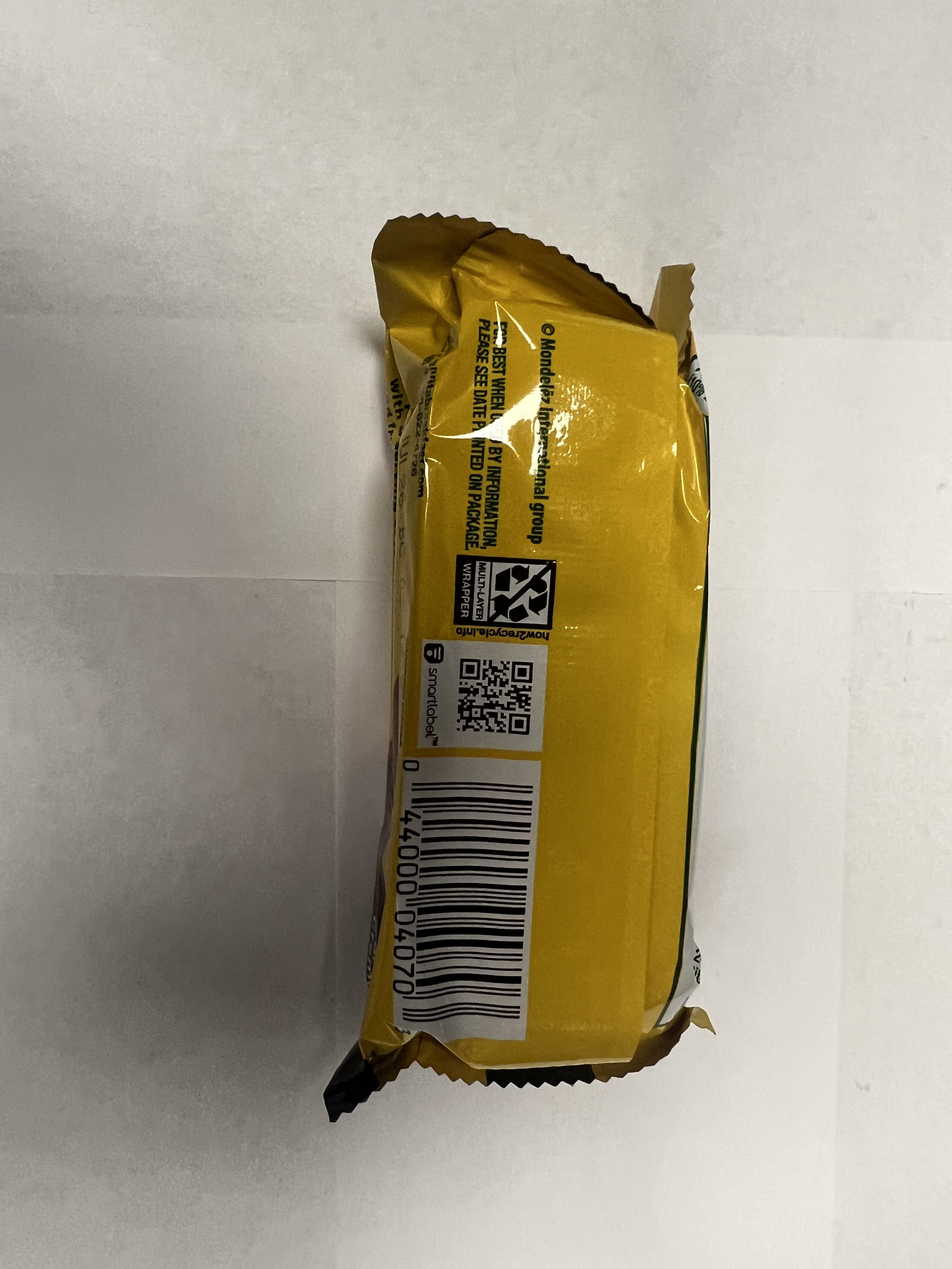packaged: (351, 212, 721, 1098)
